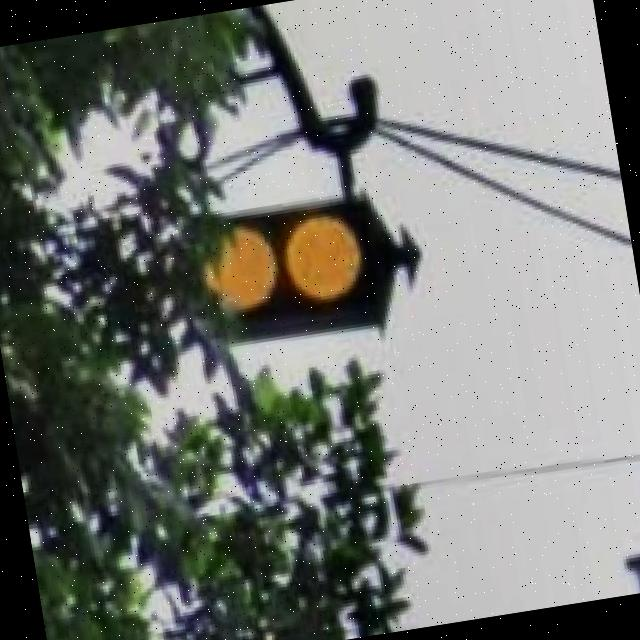Zolte swiatlo: (168, 288, 318, 502)
